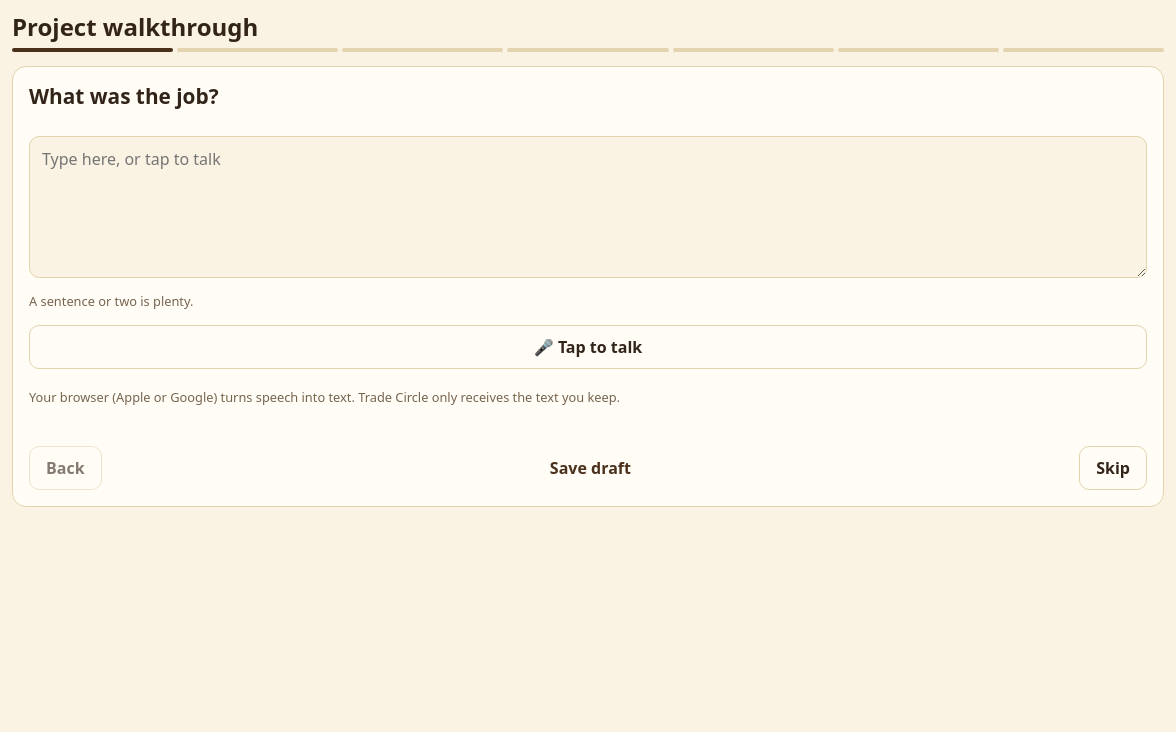
Test: Share a project › asks one question at a time with Back and Skip
This screenshot has width=1176, height=732.
Expected: the heading "What was the job?" is shown, left=29, top=82, right=219, bottom=110
Expected: the button "Back" is disabled, left=29, top=446, right=102, bottom=490
What coordinates should you click on to do the following:
click the button "Skip"
I would click on:
 (1113, 468)
Its box is left=1079, top=446, right=1147, bottom=490.
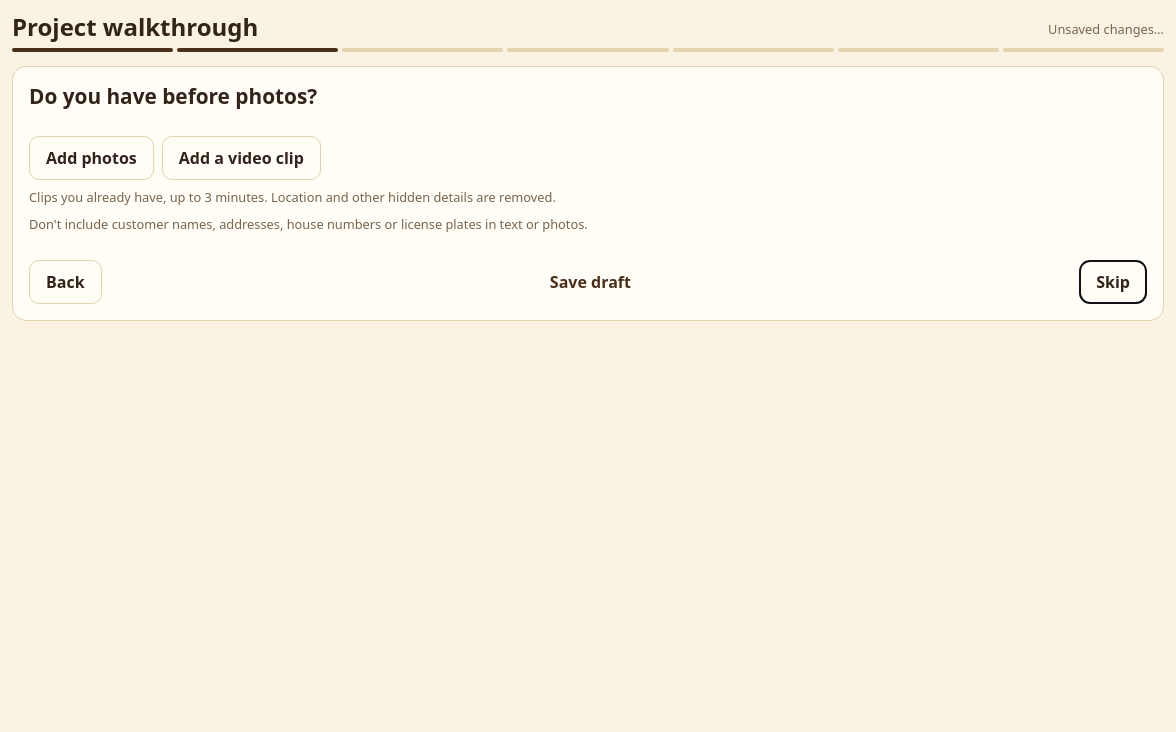
Now the heading "Do you have before photos?" is shown, box left=29, top=82, right=317, bottom=110
Now the text "Don't include customer names, addresses" is shown, box left=29, top=215, right=588, bottom=233
What coordinates should you click on to do the following:
click the button "Back"
I would click on:
 (65, 282)
Its box is left=29, top=260, right=102, bottom=304.
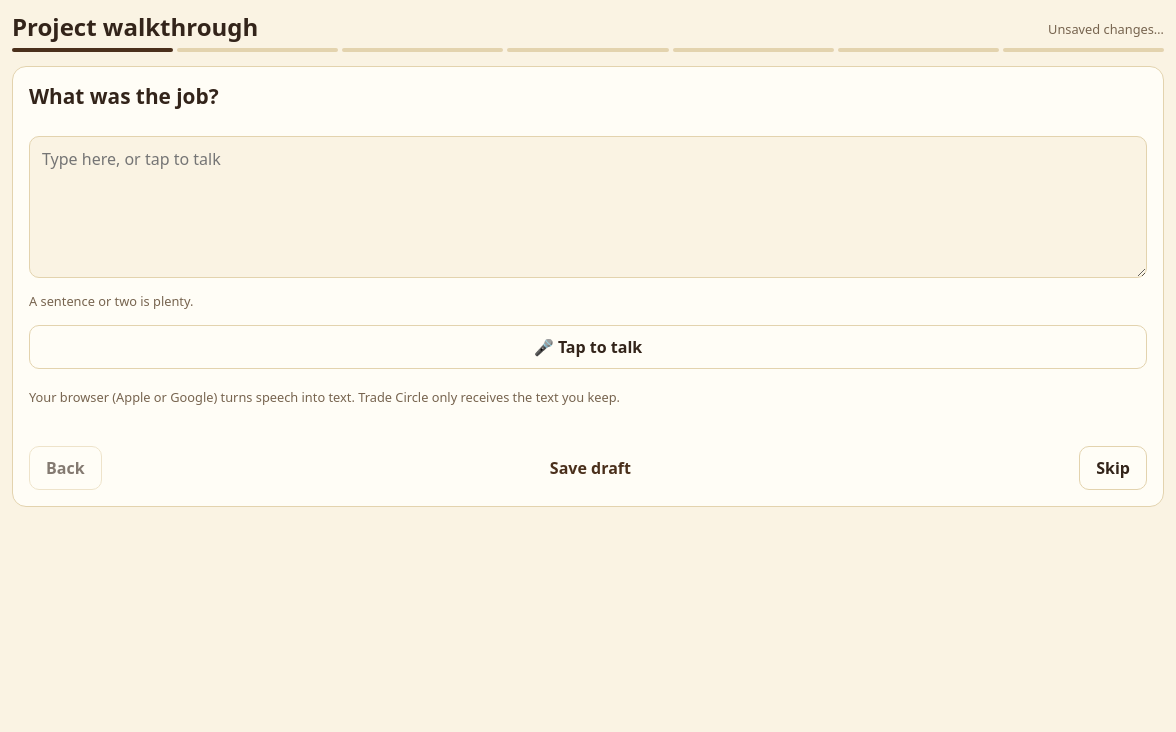
Now the heading "What was the job?" is shown, box left=29, top=82, right=219, bottom=110
